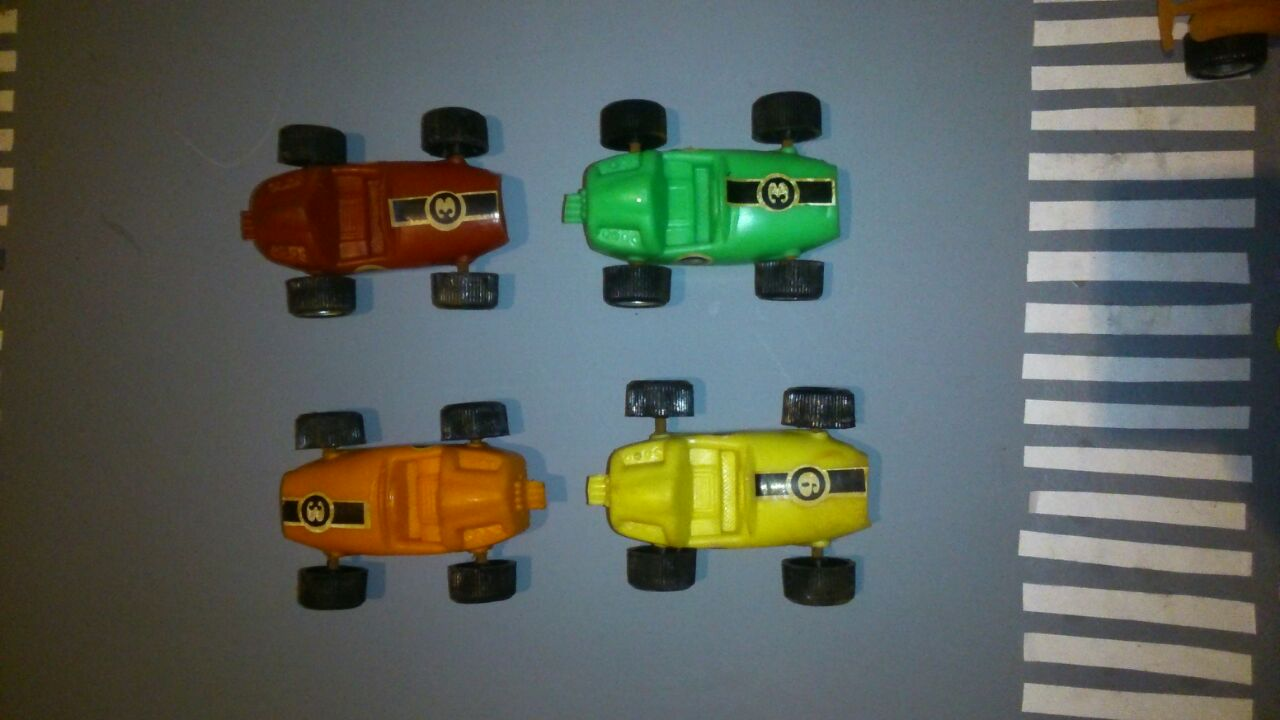amarillo: (587, 382, 875, 601)
naranja: (272, 401, 550, 609)
rojo: (240, 105, 513, 319)
verde: (562, 97, 852, 305)
